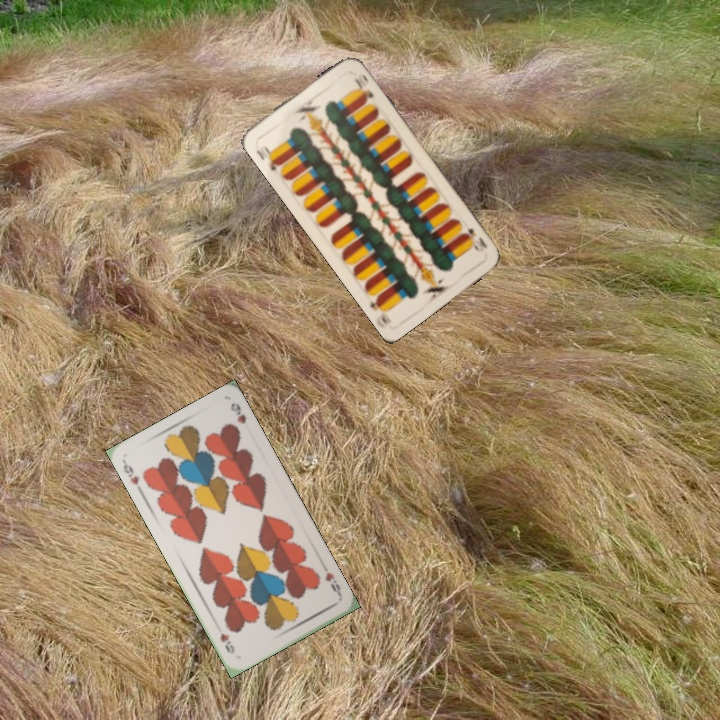E10: (460, 223, 490, 255), (260, 142, 283, 173)
H9: (321, 568, 344, 599), (119, 457, 142, 488)
